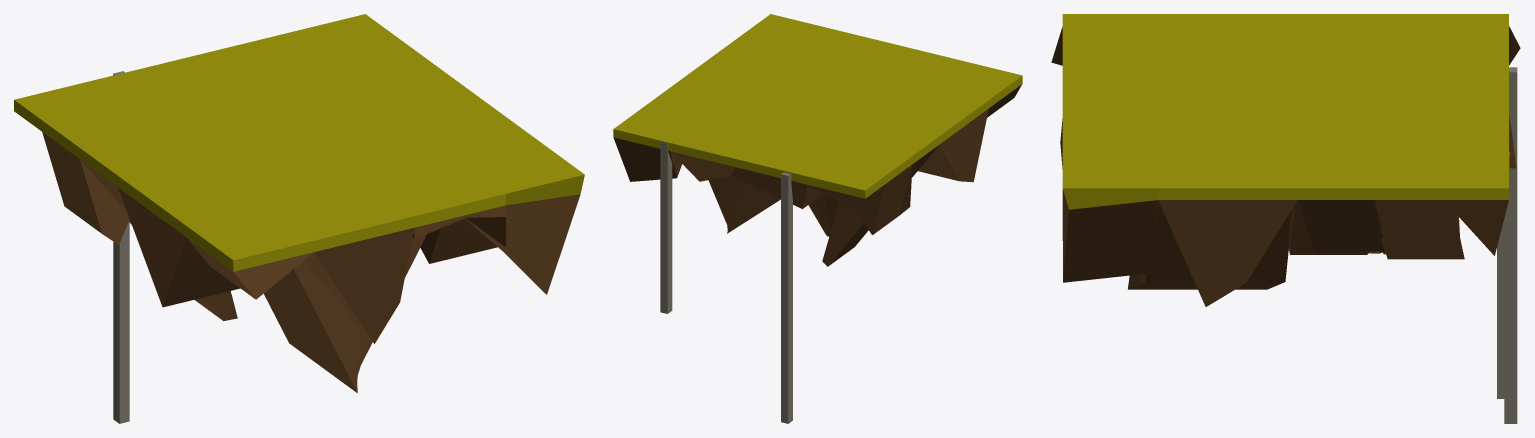
The model's file is PlataformaIniciofbx.fbx.
3 views of the same model, side by side, from view 1: azimuth 30°, elevation 25°; view 2: azimuth 150°, elevation 25°; view 3: azimuth 270°, elevation 25° (orthographic). The views are drawn at different scales.
Parts seen in each view (by area): view 1: Cube.001; view 2: Cube.001; view 3: Cube.001.
Part boxes in pixels (bbox=[...]): Cube.001: bbox=[14, 14, 584, 423]; Cube.001: bbox=[613, 14, 1022, 423]; Cube.001: bbox=[1051, 14, 1520, 423].
Bounding box in the file's own units: 887 × 835 × 1005.
3 materials, 3 textured.
